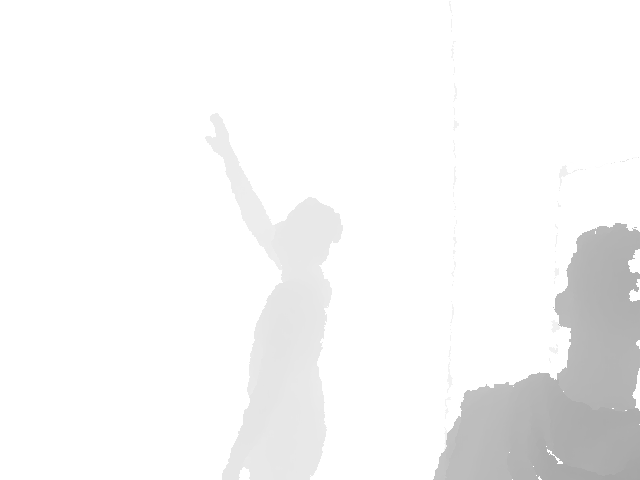hand: (205, 113, 232, 160)
head: (553, 223, 640, 391), (271, 196, 343, 274)
person: (429, 223, 640, 480), (205, 113, 342, 480)
